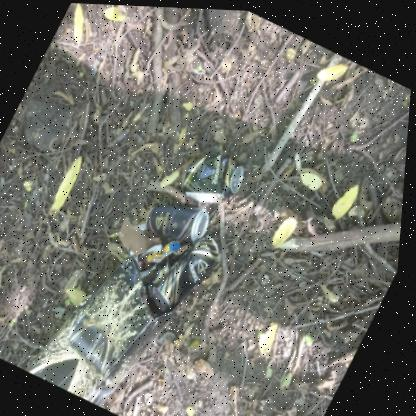Metal: (156, 232, 223, 308), (185, 151, 246, 199), (149, 201, 212, 239), (144, 257, 174, 299), (236, 170, 246, 180)
Paper: (30, 214, 188, 405)
Plastic: (151, 237, 197, 260), (142, 241, 165, 270)
